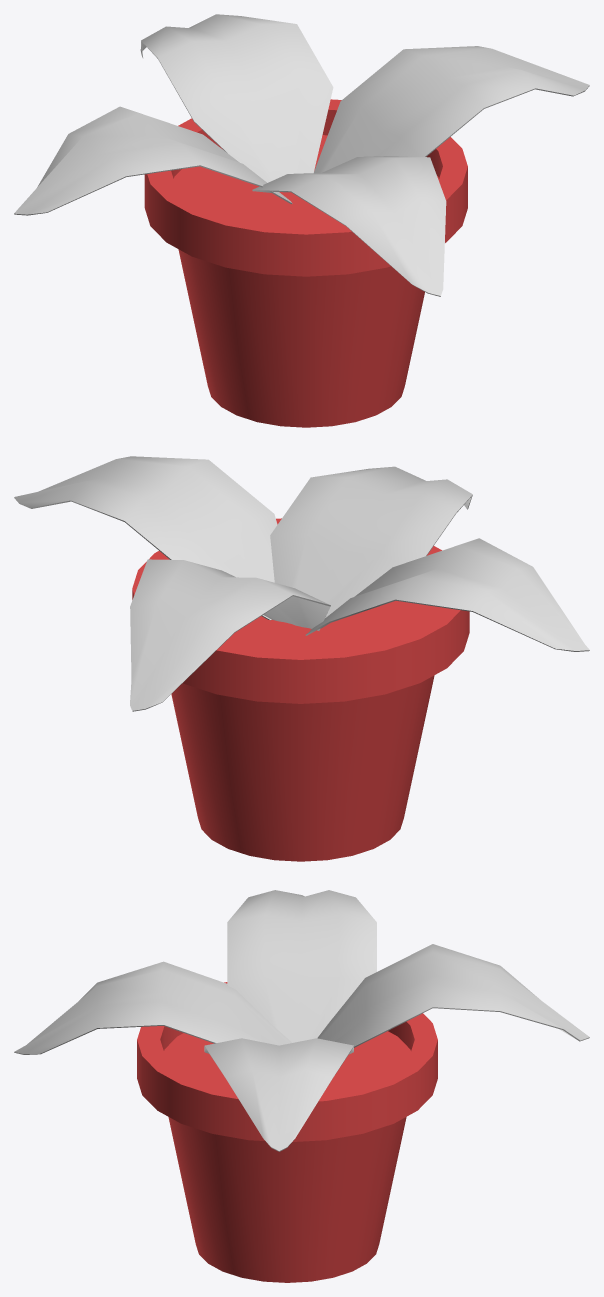
Rendered from Pflanze_002.fbx.
3 views of the same model, one above another, from view 1: azimuth 30°, elevation 25°; view 2: azimuth 150°, elevation 25°; view 3: azimuth 270°, elevation 25° (orthographic). The views are drawn at different scales.
Visible parts, largest first — view 1: Pflanze2; view 2: Pflanze2; view 3: Pflanze2.
Part boxes in pixels (<box>): Pflanze2: <box>14,14,589,427</box>; Pflanze2: <box>14,456,589,861</box>; Pflanze2: <box>14,890,589,1282</box>.
Size of the model in its own units: 2.08 by 1.04 by 1.97.
